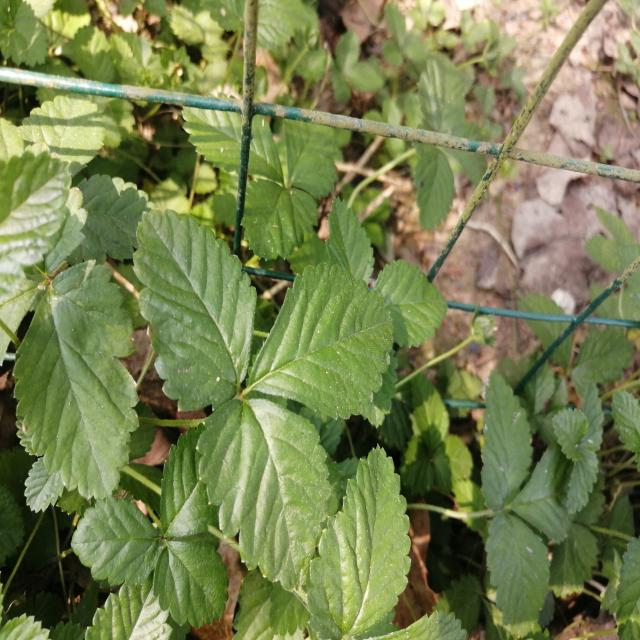Mock_strawberry: (127, 192, 386, 556)
